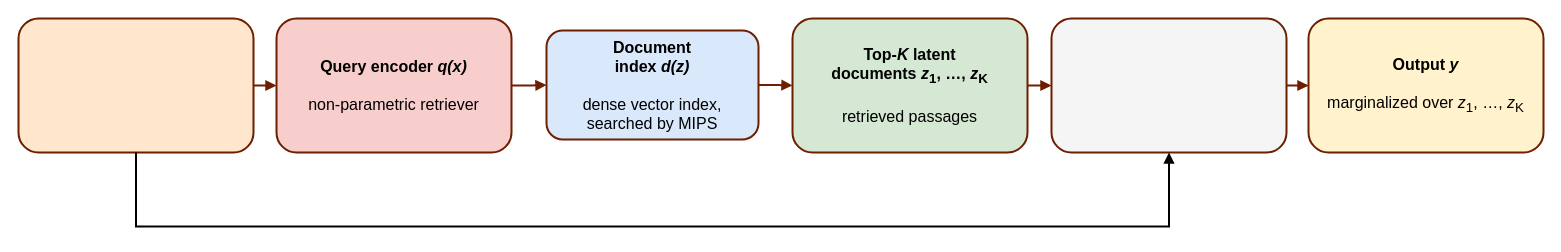
Image size: 1561x252. Some labels were removed from this diagram. The centre of each missing label's shape, as x and y in pixels:
Generator p θ ( y | x, z ) pretrained seq2seq model: the point at 1168,85
Input x e.g. a question: the point at 135,85
